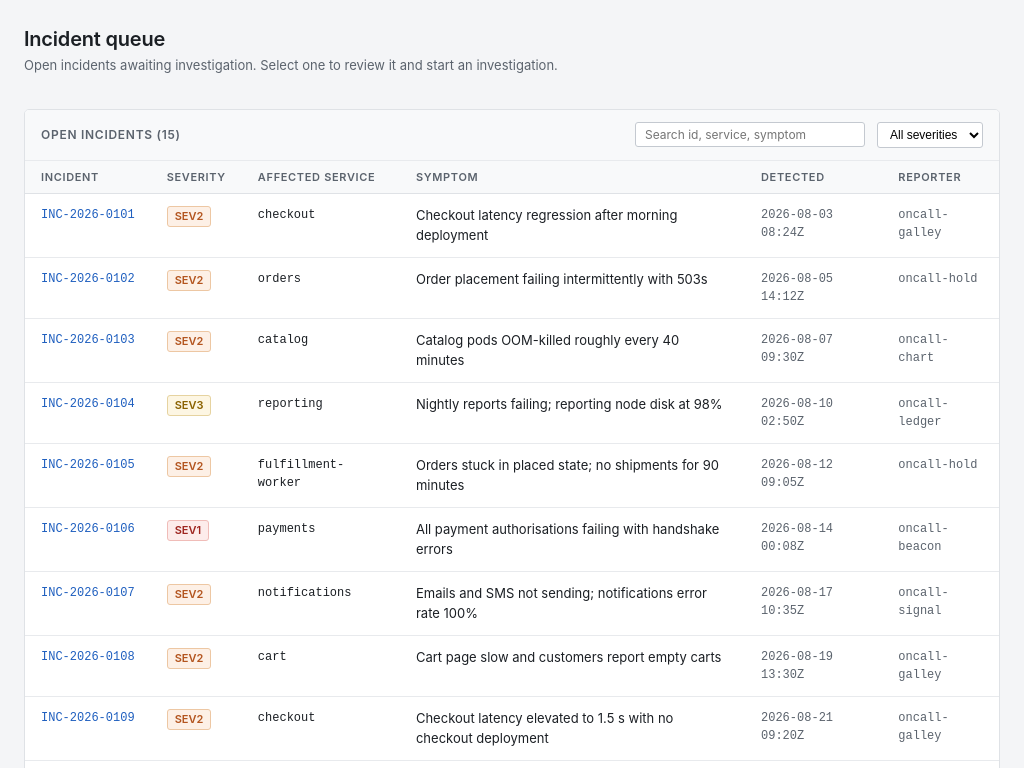
IncidentsPage › filters by search text
Type "INC-2026-0101" into the search field named "Search incidents" at (750, 134), box x1=635 y1=122 x2=865 y2=147
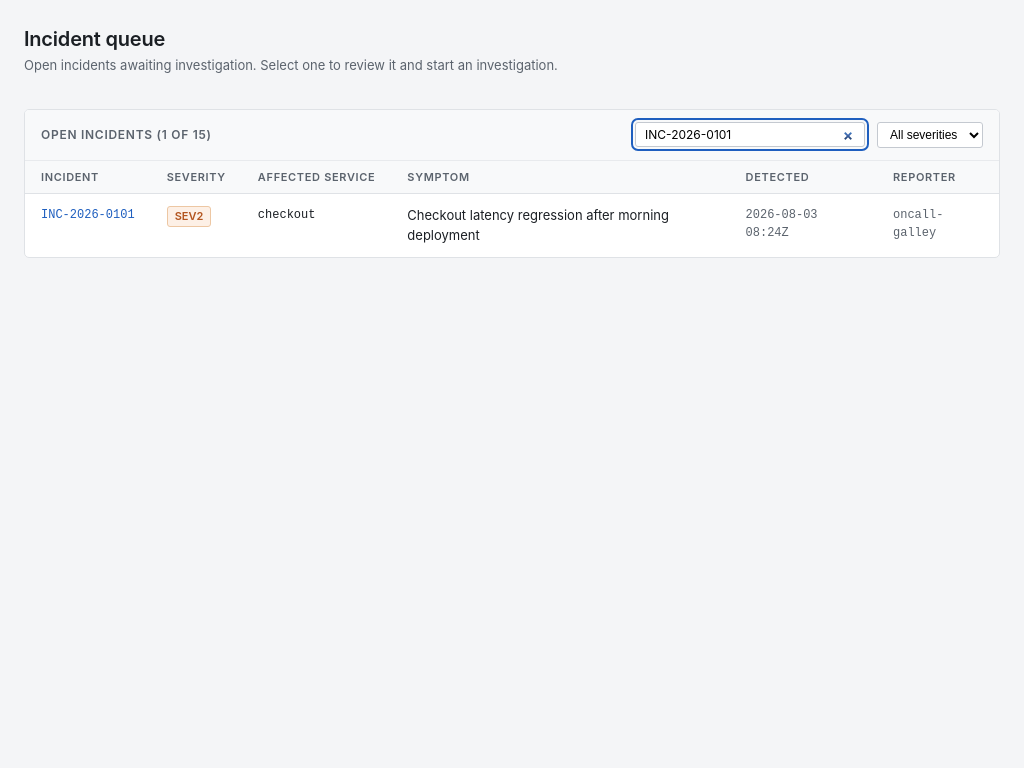
Expected: the link "INC-2026-0101" is shown, x1=41 y1=208 x2=135 y2=222
Result: the number of rows is 2 at x1=25 y1=160 x2=999 y2=194; x1=25 y1=194 x2=999 y2=257
